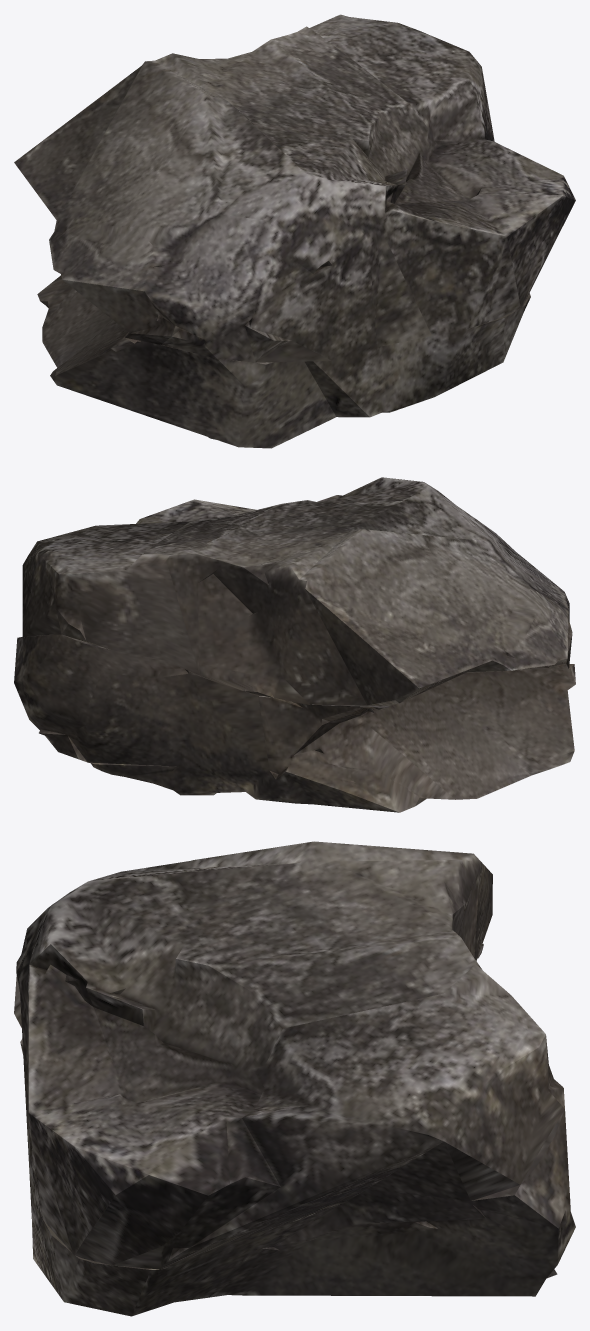
File: RockC.fbx
3 views of the same model, one above another, from view 1: azimuth 30°, elevation 25°; view 2: azimuth 150°, elevation 25°; view 3: azimuth 270°, elevation 25° (orthographic). The views are drawn at different scales.
Visible parts, largest first — view 1: RockCBot_geo, RockCTop_geo; view 2: RockCBot_geo, RockCTop_geo; view 3: RockCBot_geo, RockCTop_geo.
Part boxes in pixels (<box>): RockCBot_geo: <box>14,14,575,362</box>; RockCTop_geo: <box>37,275,530,448</box>; RockCBot_geo: <box>22,477,572,705</box>; RockCTop_geo: <box>14,634,575,812</box>; RockCBot_geo: <box>14,841,564,1269</box>; RockCTop_geo: <box>20,944,575,1316</box>.
Size of the model in its own units: 193 by 103 by 144.
Materials: 1 (1 with a texture image).
